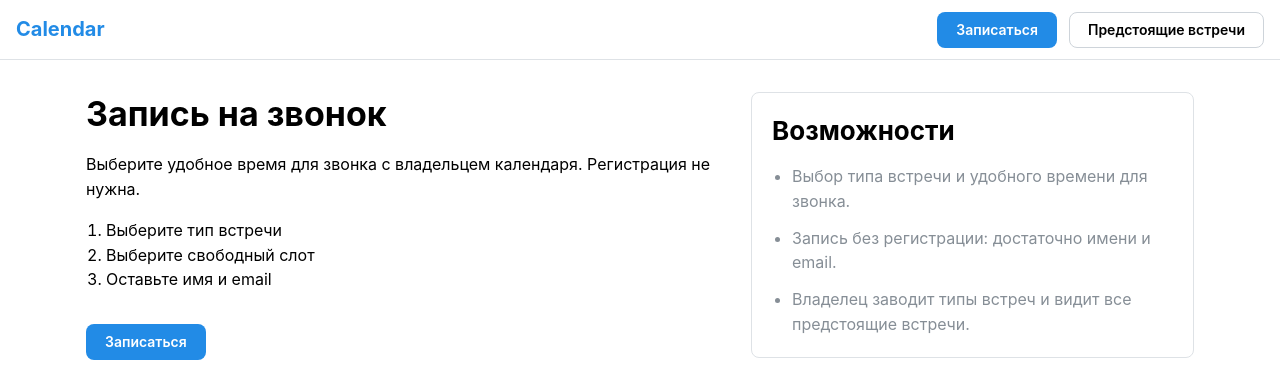
панель сверху › «Записаться» ведёт на страницу записи
Click the link "Записаться" in the row of "Calendar": (997, 30) [937,12,1057,48]
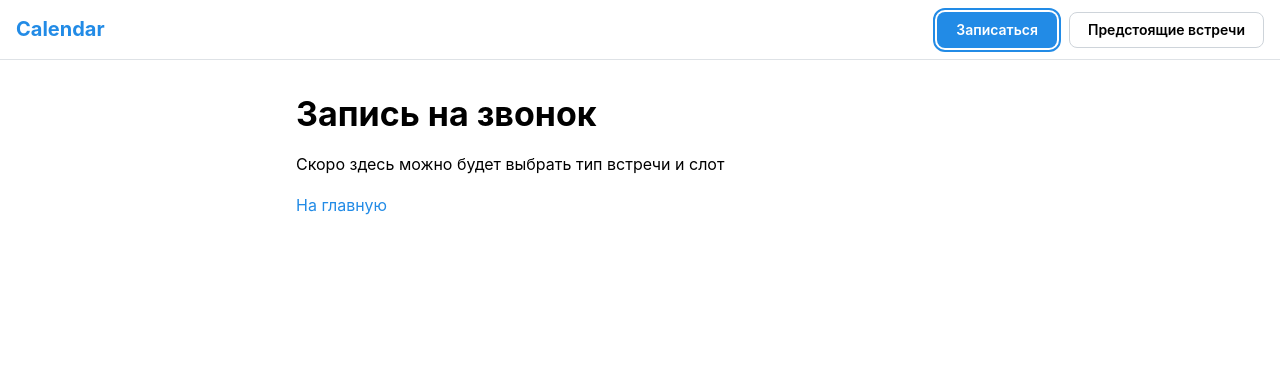
Check: the text "Скоро здесь можно будет выбрать тип встречи и слот" is shown, box [296,154,724,174]
